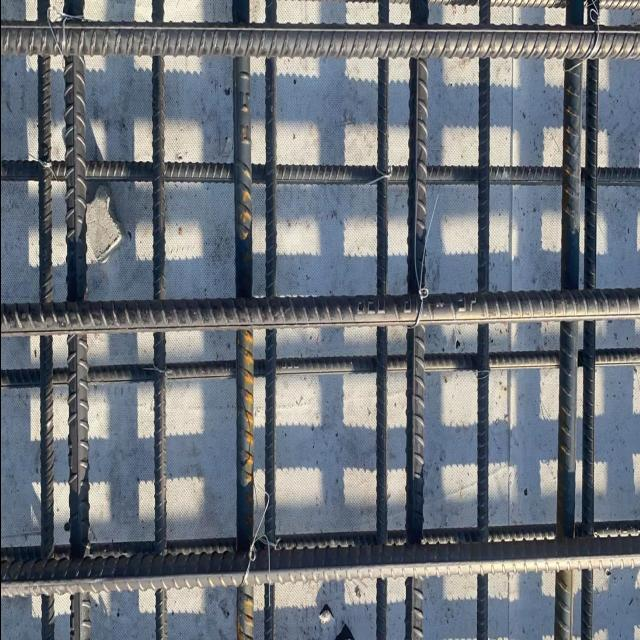ribbed bar: (1, 522, 640, 599), (1, 286, 640, 338), (1, 349, 640, 399), (1, 22, 640, 59), (61, 2, 91, 640), (1, 158, 640, 187), (556, 2, 584, 640), (403, 2, 429, 640), (231, 2, 255, 640), (580, 2, 598, 640), (150, 2, 168, 640), (38, 2, 54, 640), (476, 2, 490, 640), (264, 2, 277, 640), (377, 2, 389, 640)
